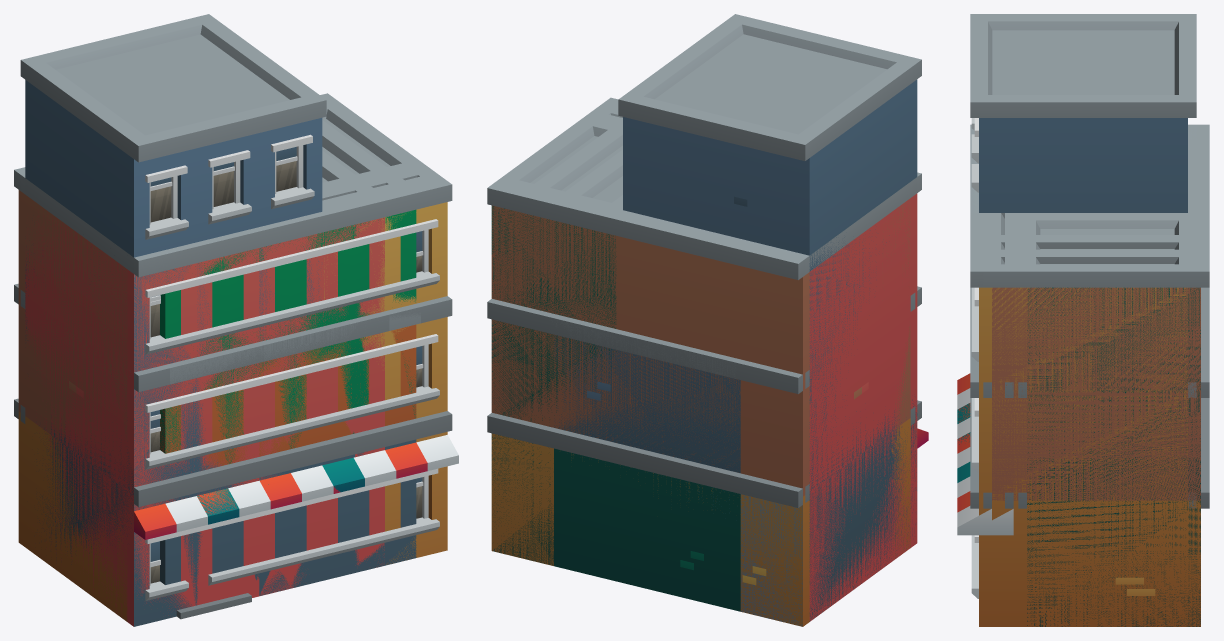
File: city.glb
3 views of the same model, side by side, from view 1: azimuth 30°, elevation 25°; view 2: azimuth 150°, elevation 25°; view 3: azimuth 270°, elevation 25° (orthographic). The views are drawn at different scales.
Parts seen in each view (by area): view 1: B_H, B_F, B_E, B_C, B_B, B_D, B_G, B_A; view 2: B_E, B_H, B_G, B_A, B_F, B_C, B_D; view 3: B_E, B_H, B_F, B_G, B_D, B_C, B_A, B_B.
Part boxes in pixels (x1,y1,x2,y2): B_H: (20,14,417,626); B_F: (21,101,452,626); B_E: (14,93,458,621); B_C: (197,151,389,609); B_B: (160,311,420,619); B_D: (160,120,420,577); B_G: (14,96,426,493); B_A: (197,450,396,524); B_E: (487,103,928,626); B_H: (516,14,921,621); B_G: (487,115,915,626); B_A: (550,317,740,611); B_F: (512,97,921,621); B_C: (557,149,746,243); B_D: (531,127,777,251); B_E: (957,124,1209,626); B_H: (970,14,1196,626); B_F: (970,124,1196,626); B_G: (957,124,1209,626); B_D: (970,139,1196,367); B_C: (970,154,1196,558); B_A: (957,398,1209,497); B_B: (970,401,978,573).
Bounding box in the file's own units: 2.01 × 2.95 × 1.45.
Materials: 18 (18 with a texture image).
